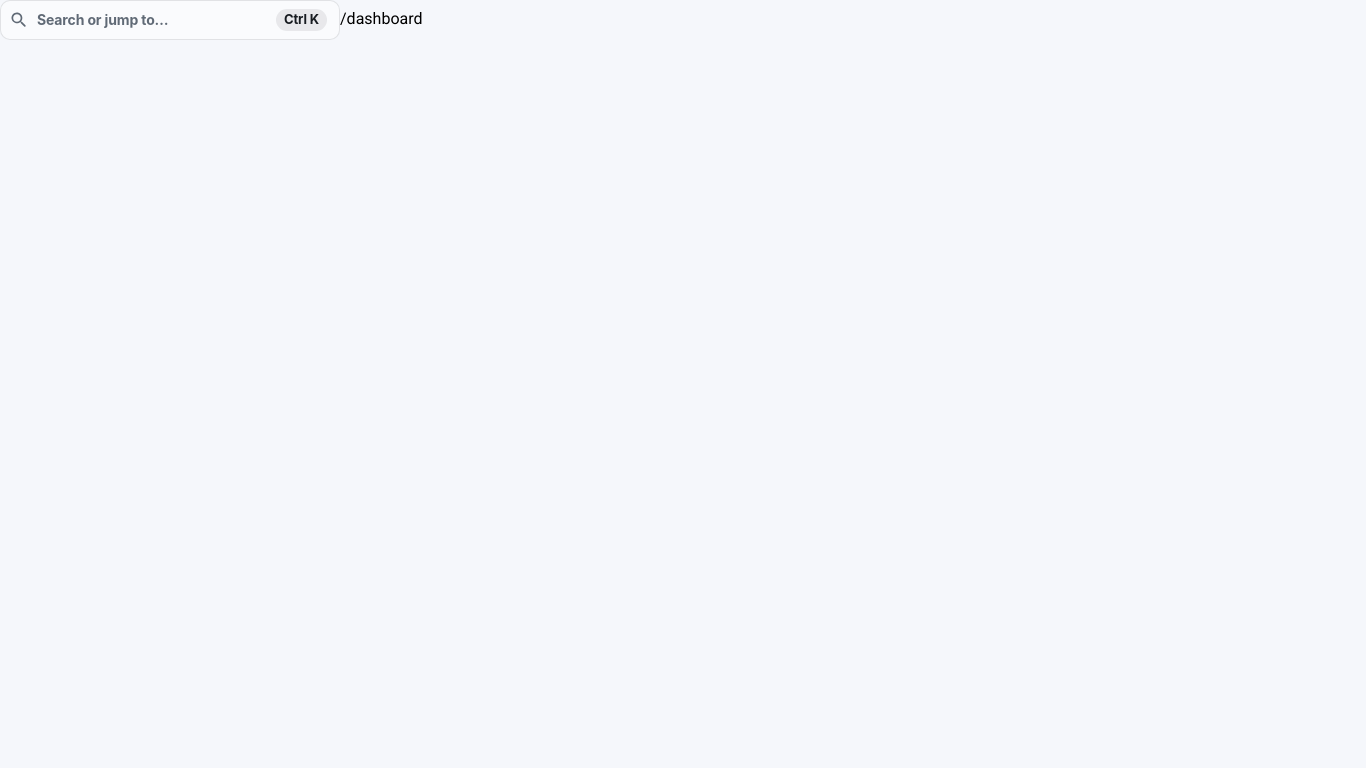
CommandPalette › supports keyboard execution for filtered navigation commands
Press k
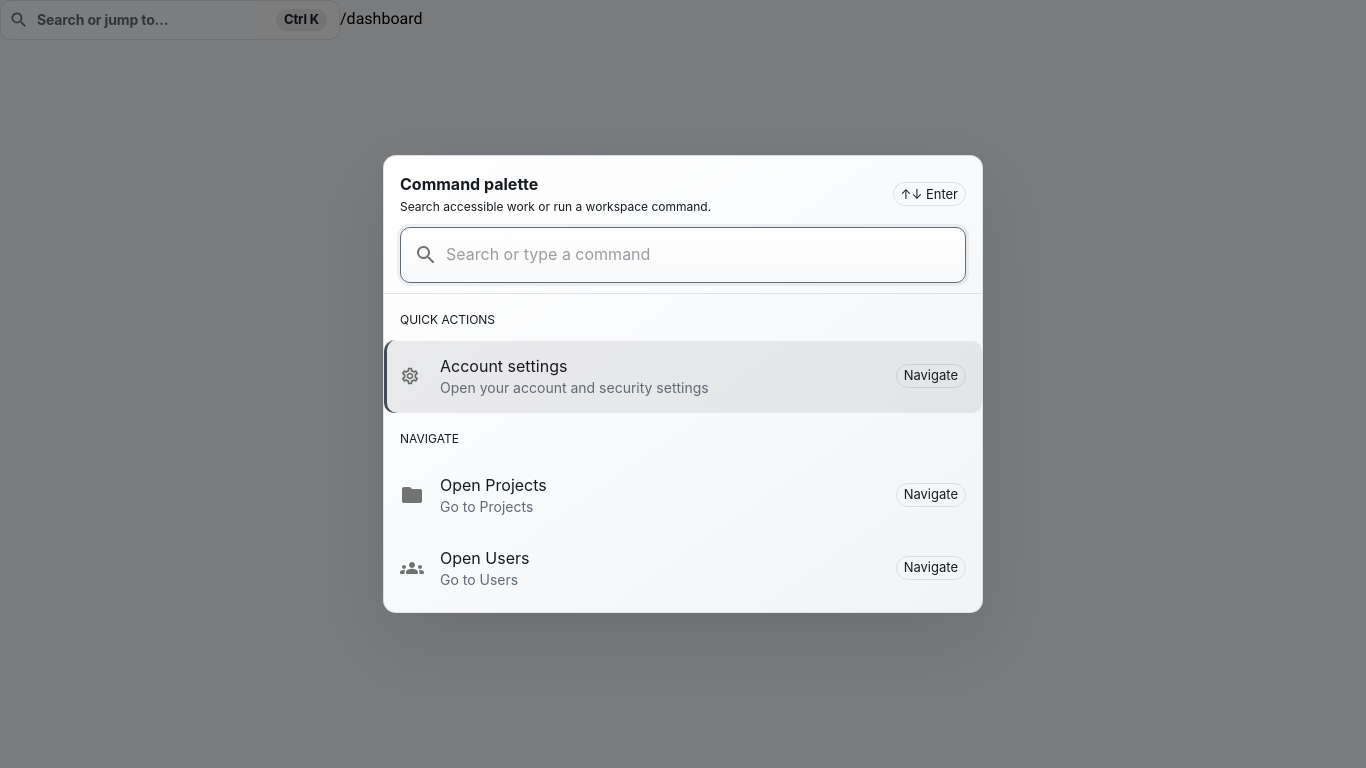
Type "open projects" into the field with placeholder "Search or type a command".
click(706, 255); type("open projects")  # box [446,227,966,283]
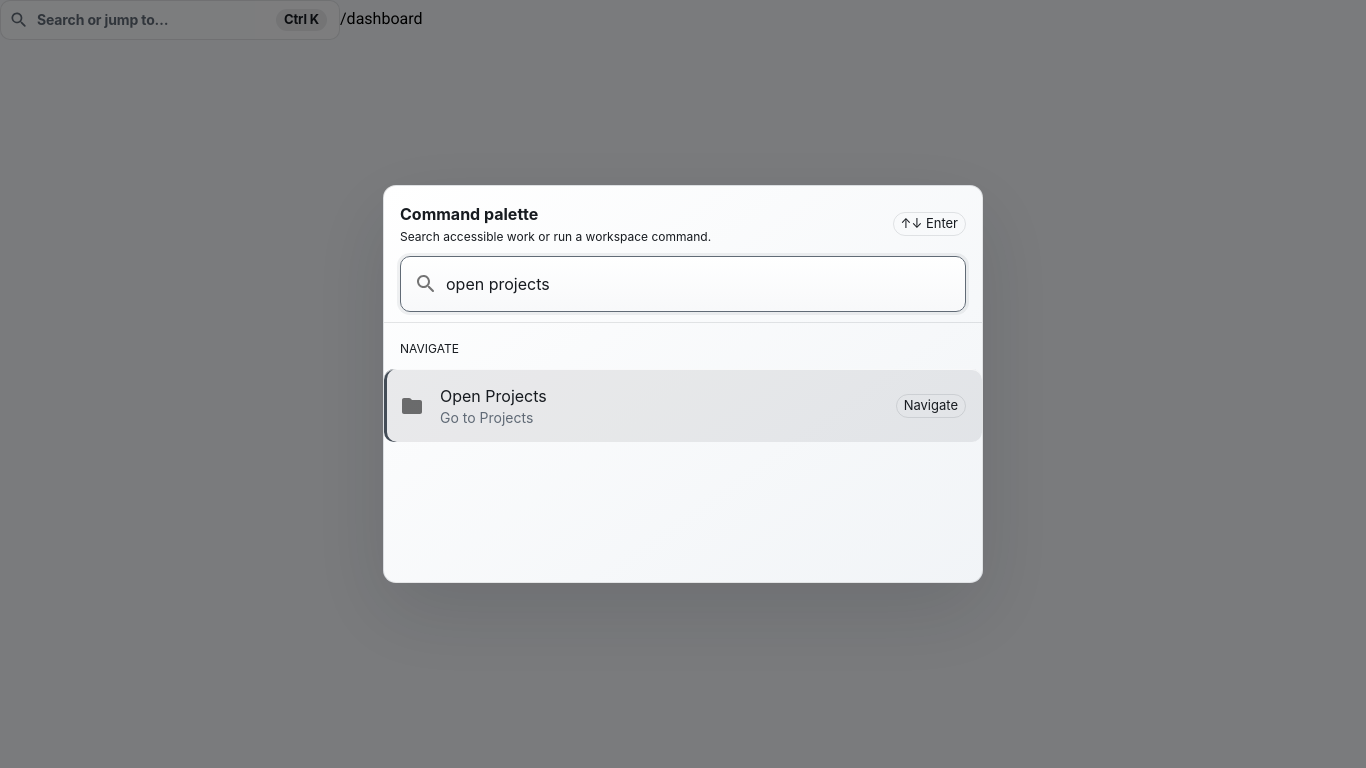
Press Enter
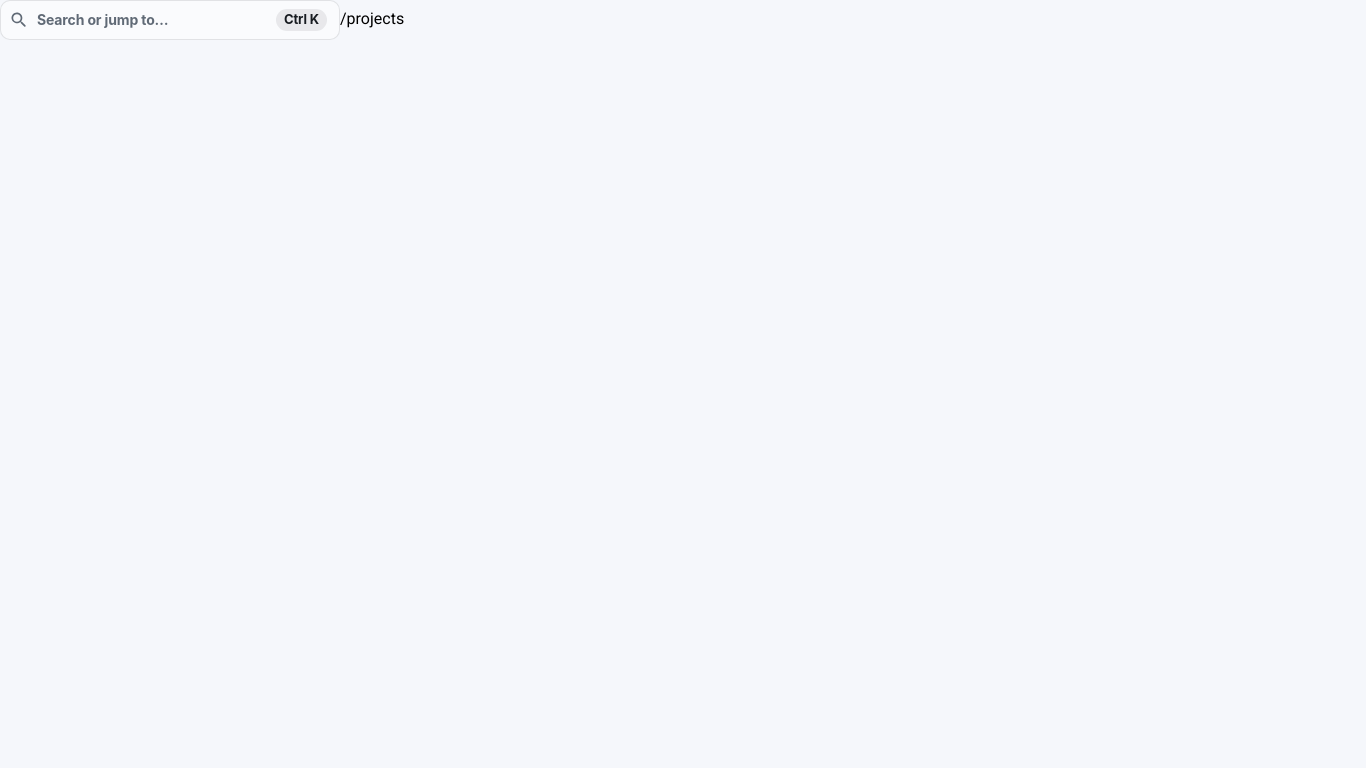
Expected: the text named "Current location" reads "/projects", [340,9,404,28]
